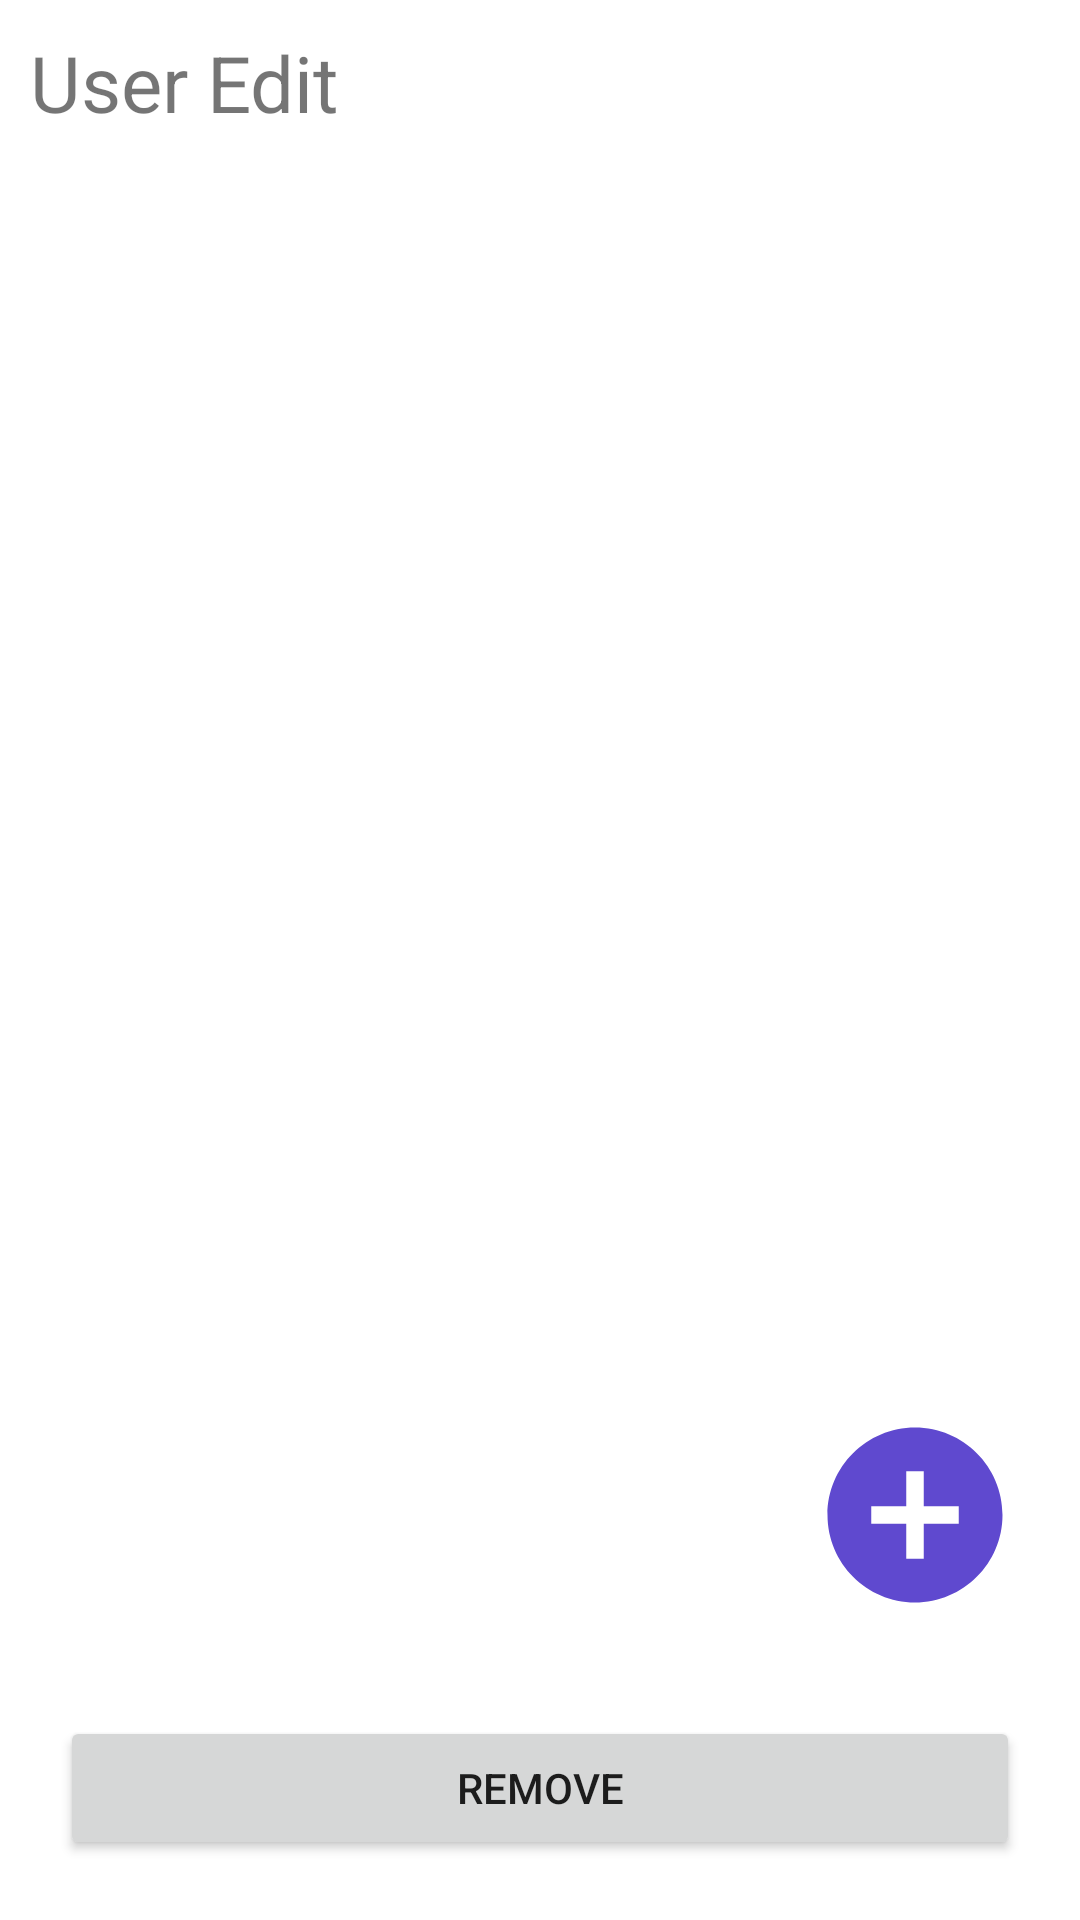

Screen size 1080px x 1920px. Icon name, then its box in pixels as box=[x1, y1, x2, y2]:
add circle: box=[827, 1427, 1003, 1603]
